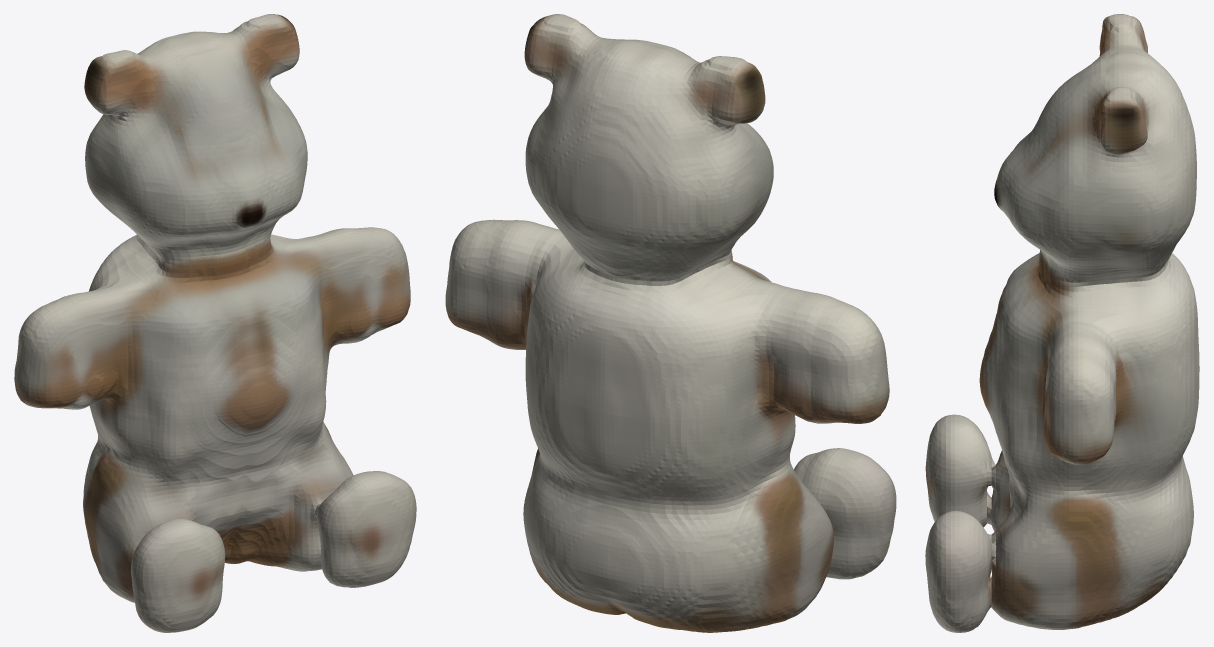
The picture shows the model from 3 angles, left to right: view 1: azimuth 30°, elevation 25°; view 2: azimuth 150°, elevation 25°; view 3: azimuth 270°, elevation 25°; orthographic projection. The views are drawn at different scales.
Parts seen in each view (by area): view 1: geometry_0; view 2: geometry_0; view 3: geometry_0.
Part boxes in pixels (x1,y1,x2,y2): geometry_0: (14, 14, 416, 632); geometry_0: (445, 14, 896, 632); geometry_0: (925, 14, 1199, 632).
Bounding box in the file's own units: 1.26 × 1.6 × 0.753.
